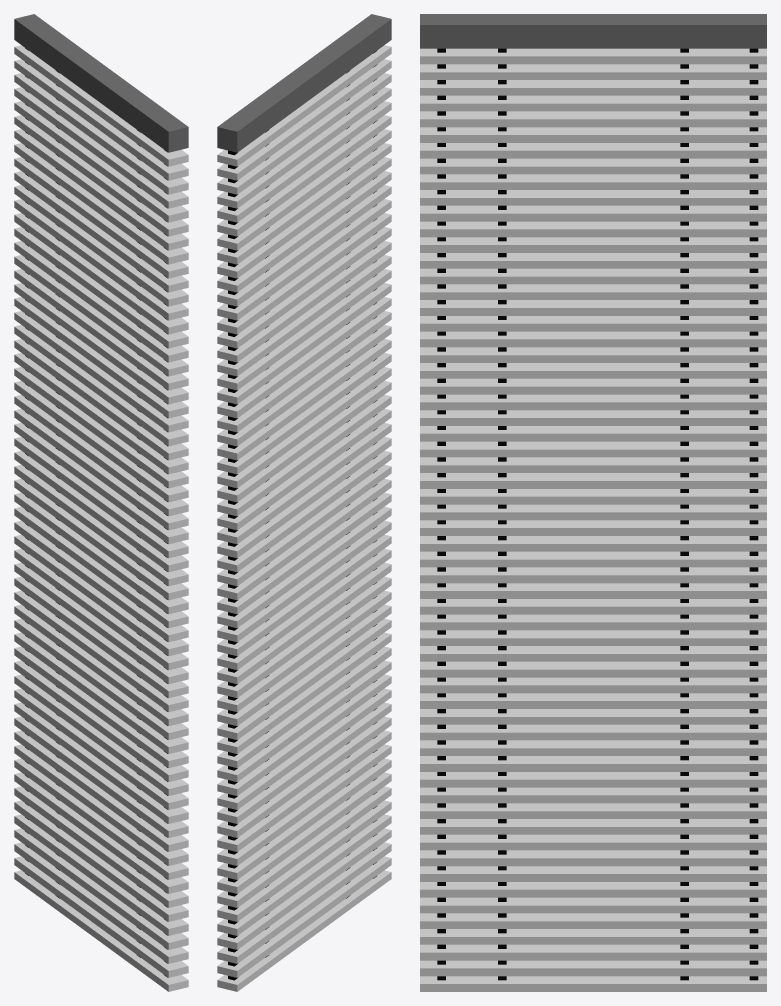
The model's file is blinds_01.glb.
The picture shows the model from 3 angles, left to right: view 1: azimuth 30°, elevation 25°; view 2: azimuth 150°, elevation 25°; view 3: azimuth 270°, elevation 25°; orthographic projection. The views are drawn at different scales.
Visible parts, largest first — view 1: Untitled; view 2: Untitled; view 3: Untitled.
Boxes of the visible parts, <box> form: Untitled: <box>14,14,188,991</box>; Untitled: <box>217,14,391,991</box>; Untitled: <box>420,14,766,991</box>.
Size of the model in its own units: 0.09 by 3.69 by 1.2.
1 material, 1 textured.
